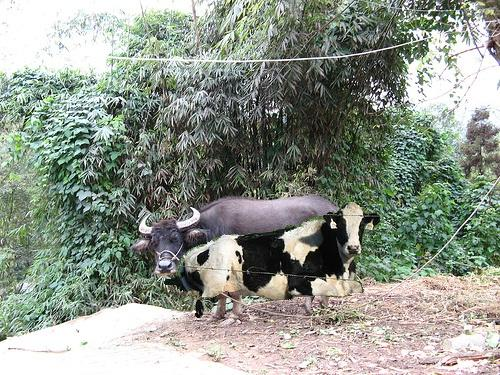tampered: (165, 202, 380, 318)
